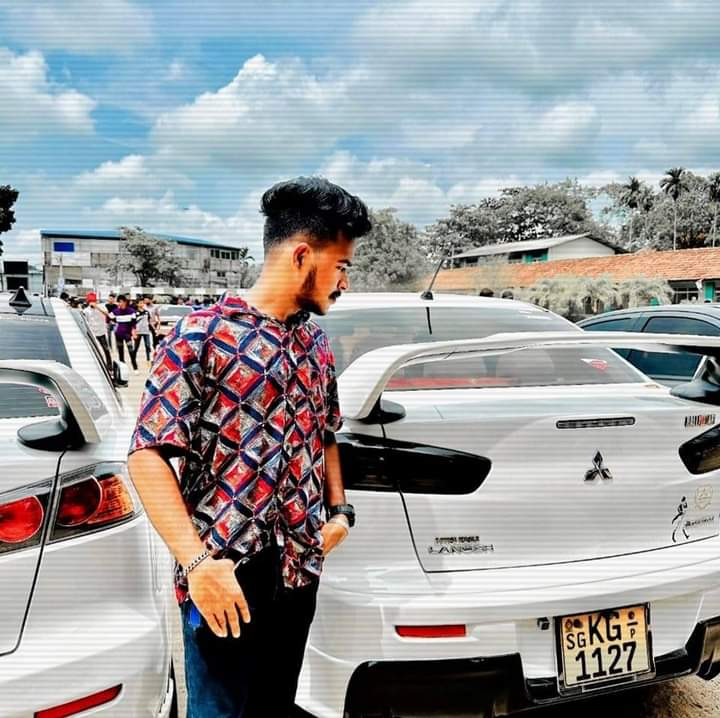number_plate: (553, 614, 656, 678)
